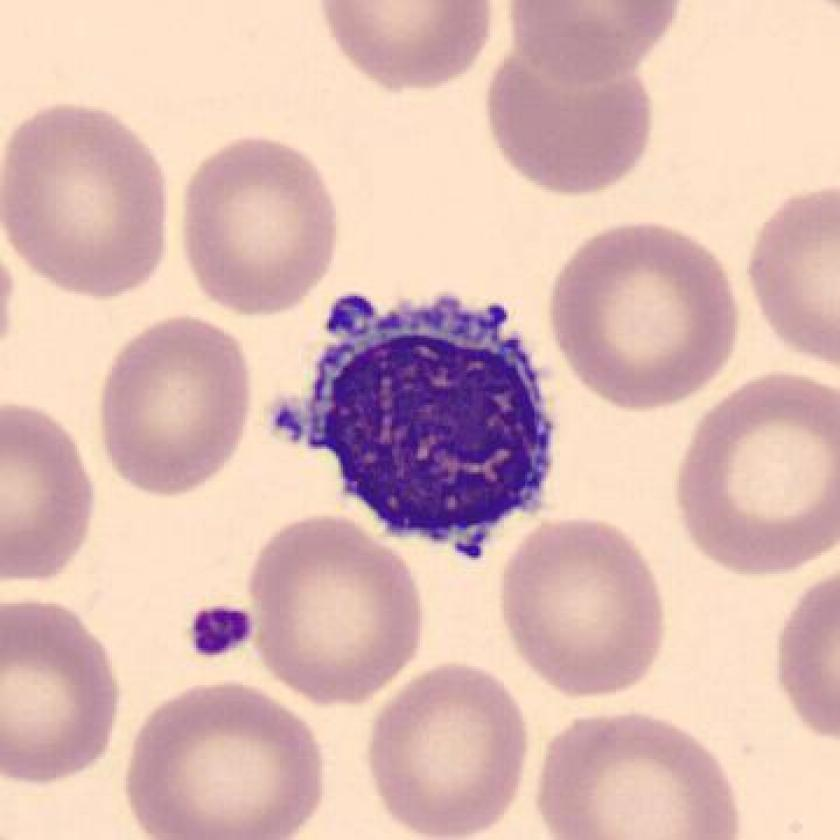lymphocyte: (253, 274, 584, 575)
platelets: (183, 599, 256, 660)
